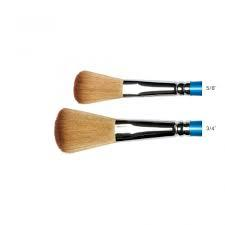brush: (54, 108, 202, 153), (75, 70, 220, 104)
